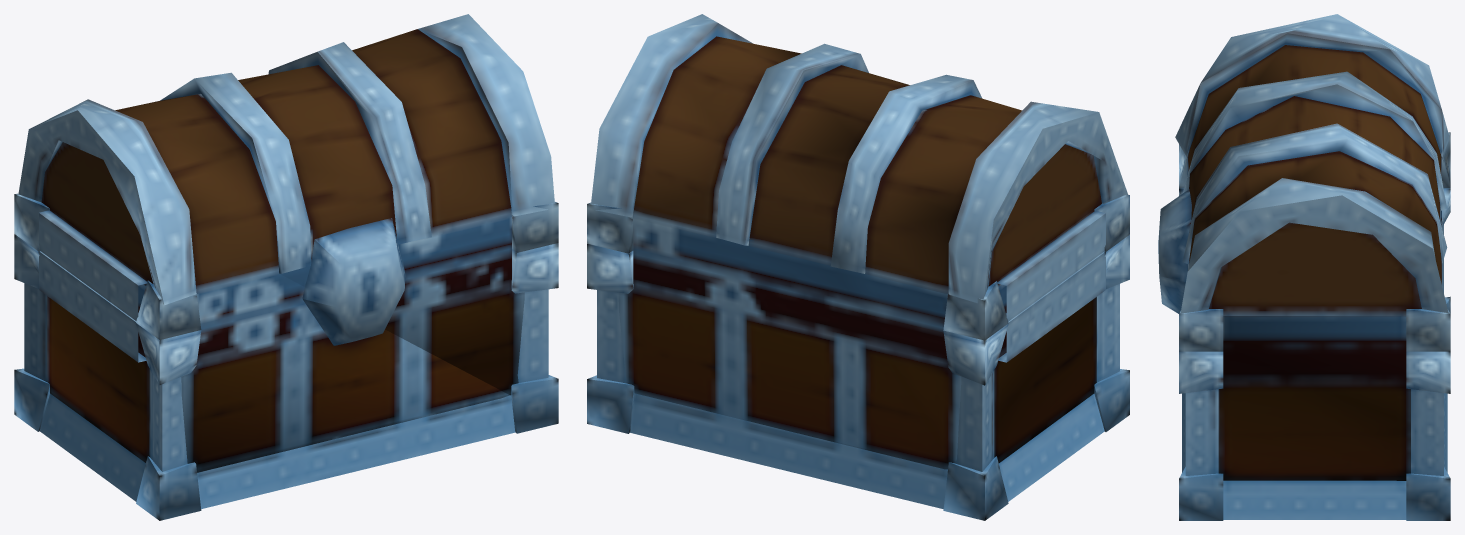
File: Chest.fbx
The picture shows the model from 3 angles, left to right: view 1: azimuth 30°, elevation 25°; view 2: azimuth 150°, elevation 25°; view 3: azimuth 270°, elevation 25°; orthographic projection. The views are drawn at different scales.
Visible parts, largest first — view 1: Cube.002; view 2: Cube.002; view 3: Cube.002.
Part boxes in pixels (x1=…): Cube.002: x1=14, y1=14, x2=558, y2=520; Cube.002: x1=587, y1=14, x2=1129, y2=520; Cube.002: x1=1158, y1=14, x2=1450, y2=520.
Bounding box in the file's own units: 352 × 294 × 239.
